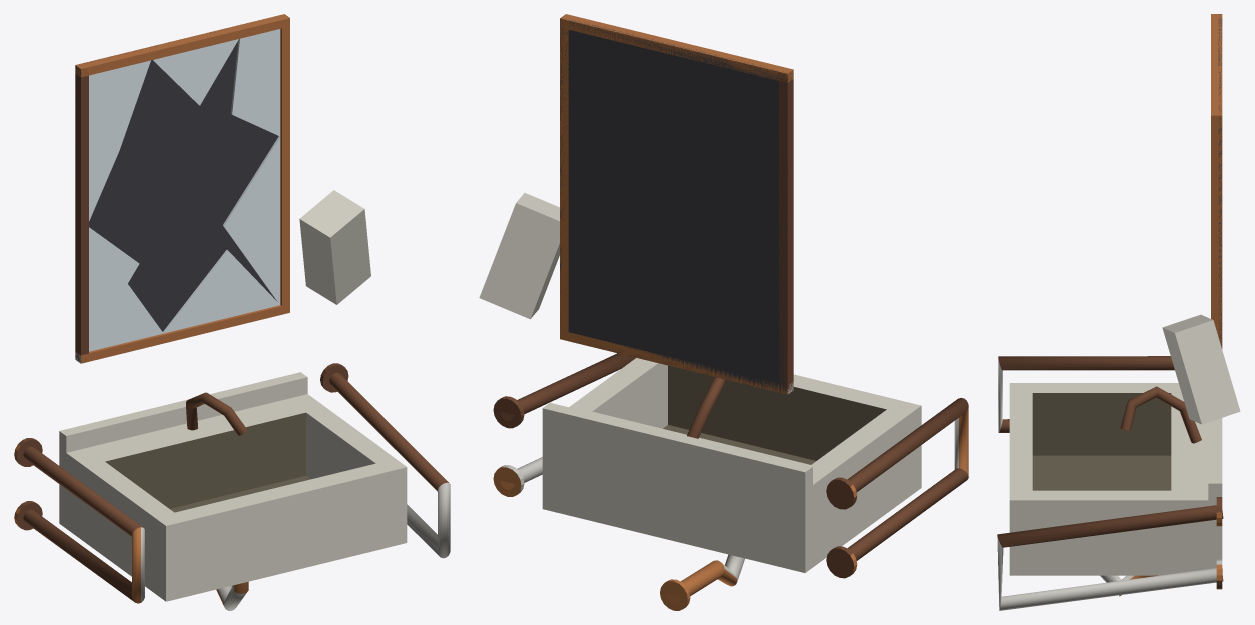
Rendered from toilet_mirror_v2.fbx.
The picture shows the model from 3 angles, left to right: view 1: azimuth 30°, elevation 25°; view 2: azimuth 150°, elevation 25°; view 3: azimuth 270°, elevation 25°; orthographic projection. The views are drawn at different scales.
Visible parts, largest first — view 1: 02_WashbasinMirror_Damaged_Mesh; view 2: 02_WashbasinMirror_Damaged_Mesh; view 3: 02_WashbasinMirror_Damaged_Mesh.
Boxes of the visible parts, left/top/right/bottom form: 02_WashbasinMirror_Damaged_Mesh: left=14, top=14, right=450, bottom=610; 02_WashbasinMirror_Damaged_Mesh: left=479, top=14, right=968, bottom=610; 02_WashbasinMirror_Damaged_Mesh: left=997, top=14, right=1240, bottom=610.
Size of the model in its own units: 86.17 by 127 by 52.61.
